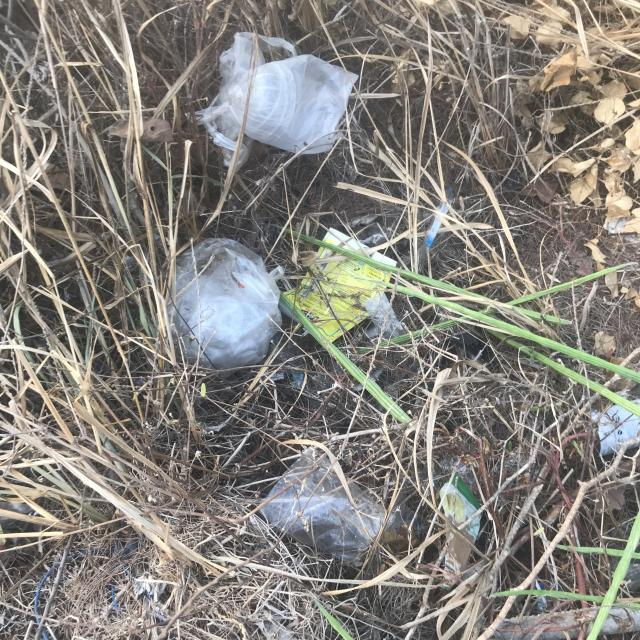Single-layer Plastic: (196, 32, 358, 166), (169, 239, 284, 370)
